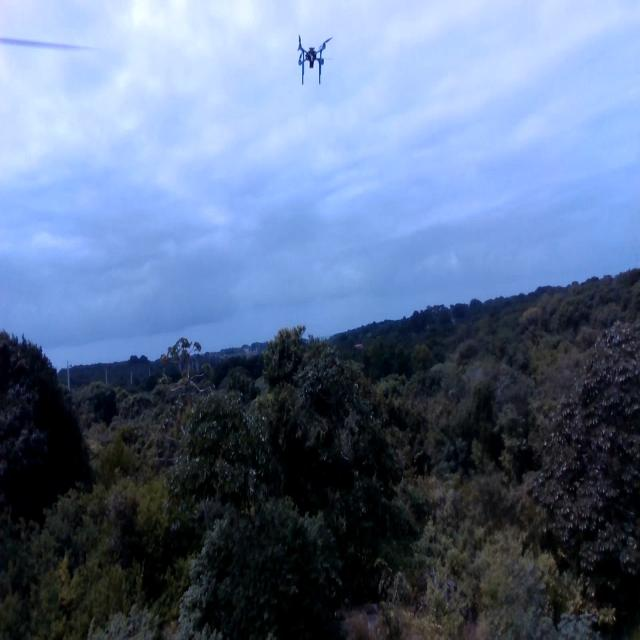-uav-: (288, 28, 334, 92)
